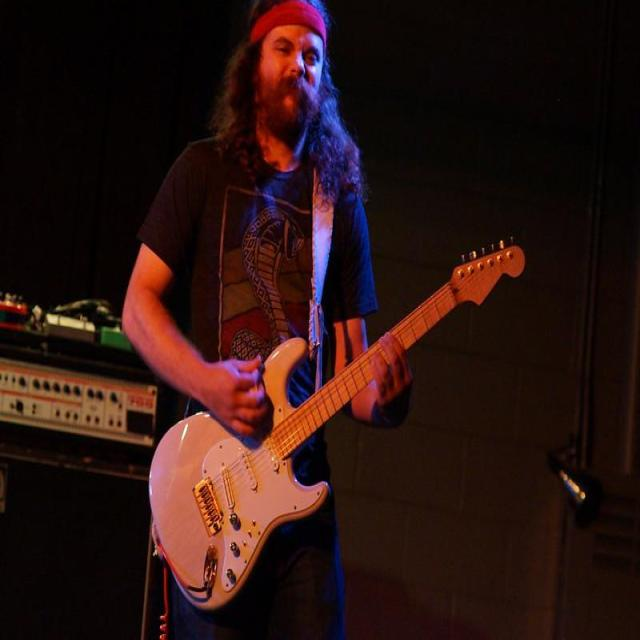guitar: (149, 339, 381, 609)
